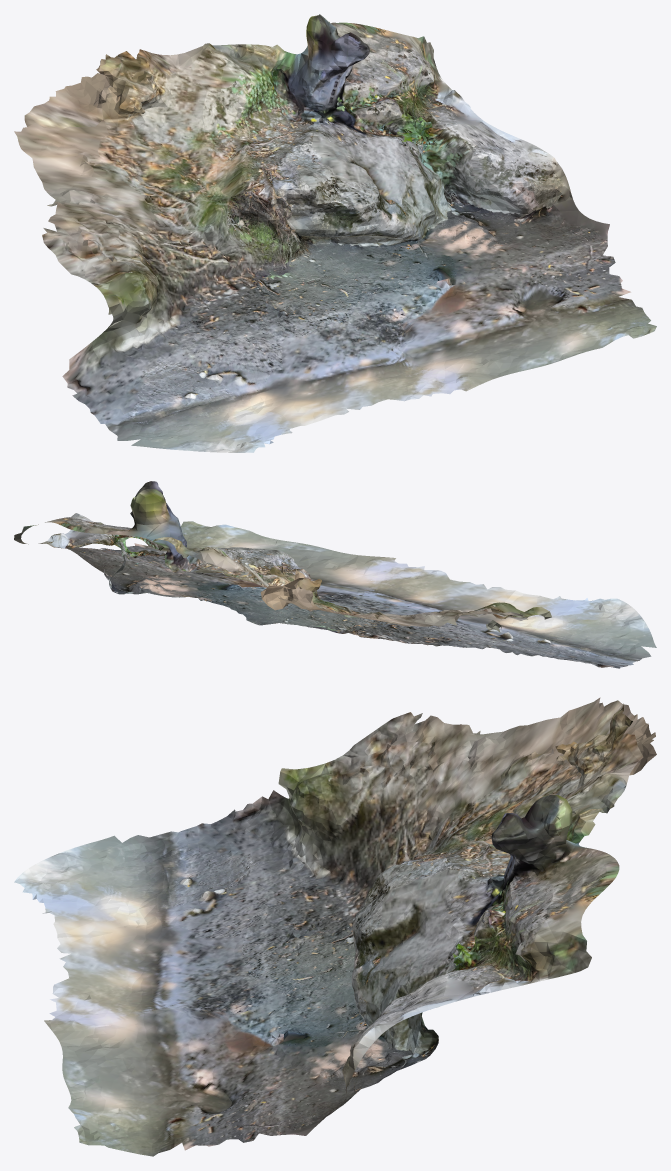
The model's file is caillou.glb.
3 renders of one model, top to bottom at view 1: azimuth 30°, elevation 25°; view 2: azimuth 150°, elevation 25°; view 3: azimuth 270°, elevation 25°, orthographic. The views are drawn at different scales.
Parts seen in each view (by area): view 1: Mesh_0.001; view 2: Mesh_0.001; view 3: Mesh_0.001.
Part boxes in pixels (x1,y1,x2,y2): Mesh_0.001: [14, 14, 656, 452]; Mesh_0.001: [14, 481, 656, 668]; Mesh_0.001: [14, 697, 656, 1156].
Size of the model in its own units: 4.36 by 1.57 by 3.47.
Materials: 1 (1 with a texture image).
